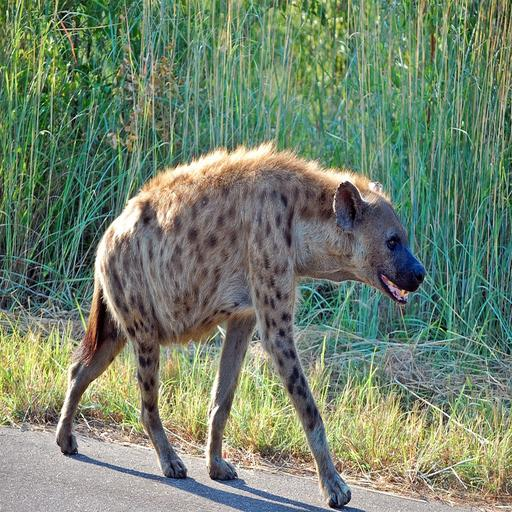Hyena: (58, 137, 430, 512)
